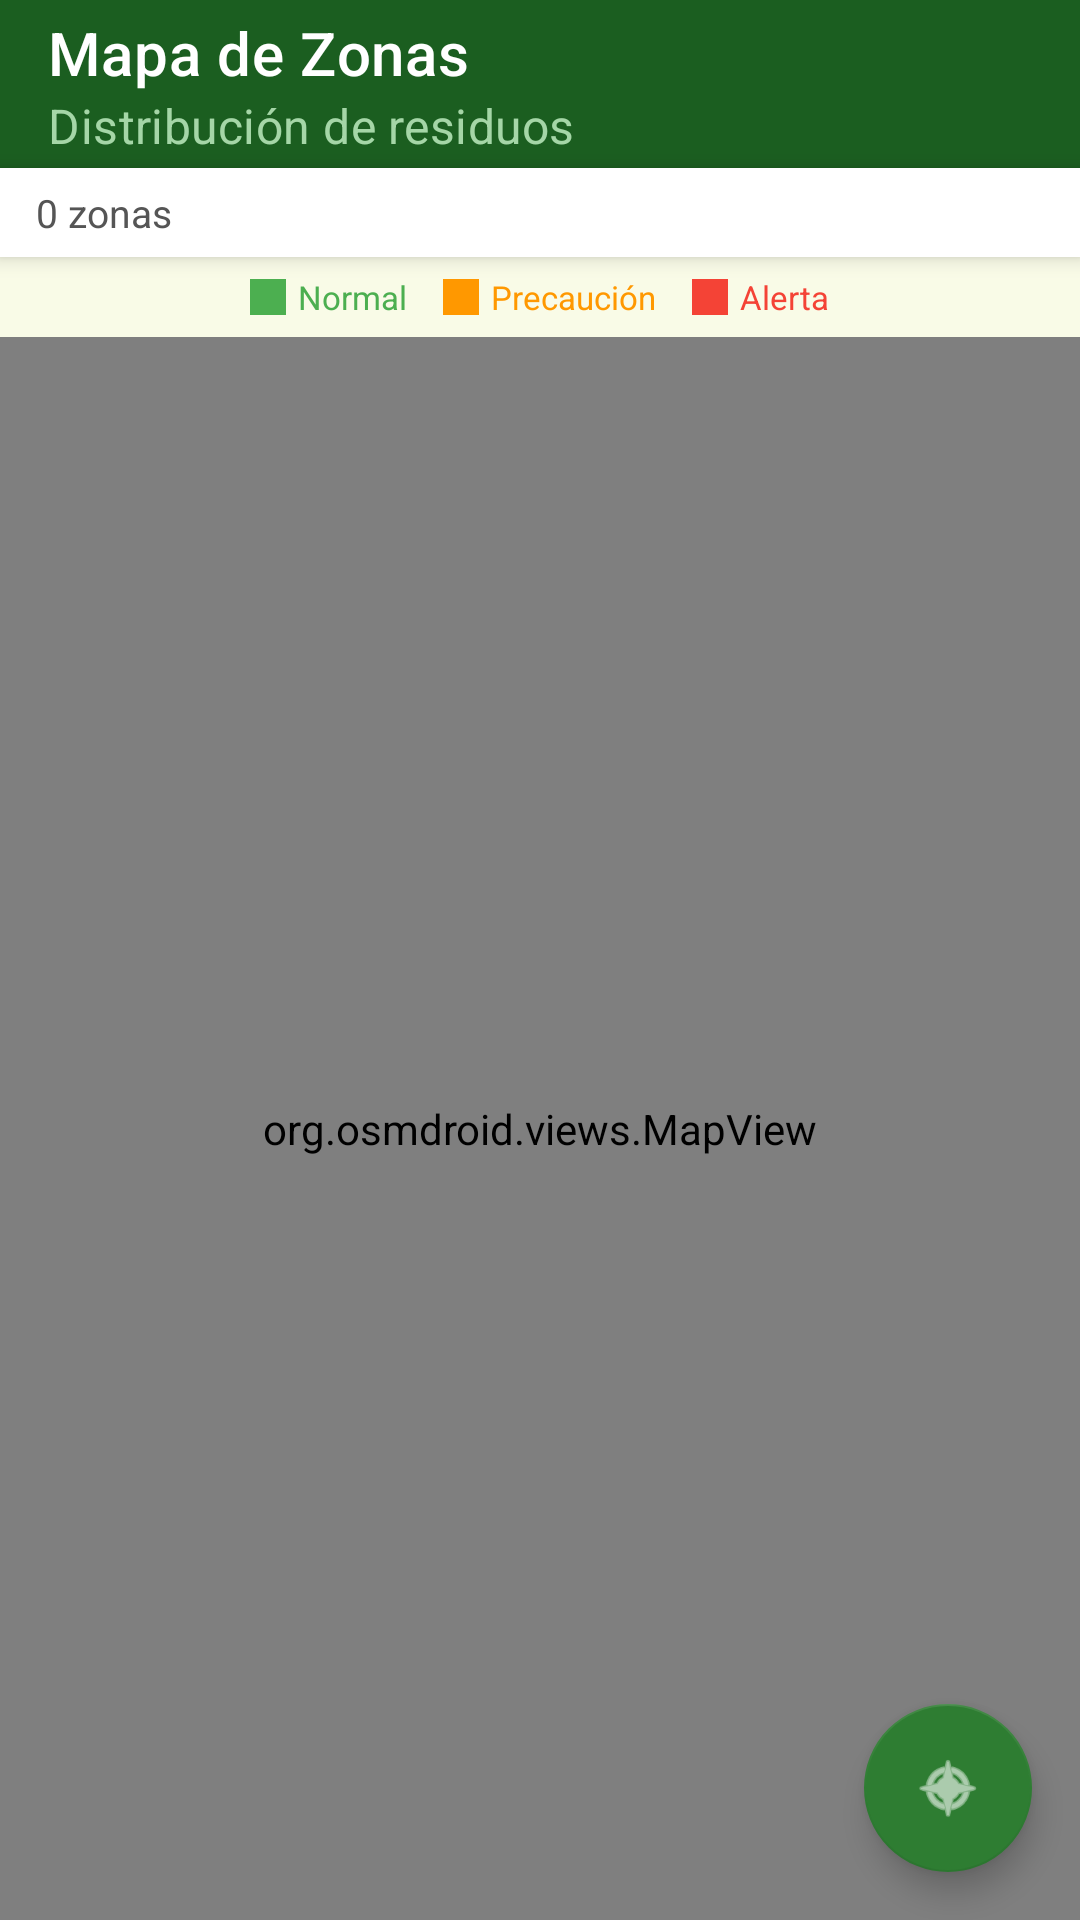

Named icons in this screenshot (1080w x 1920h) and their centers, point (x, y):
Mi ubicación: point (948, 1788)
